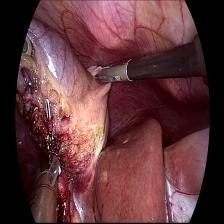Clipper: (34, 152, 61, 197)
Grasper: (96, 60, 132, 83)
